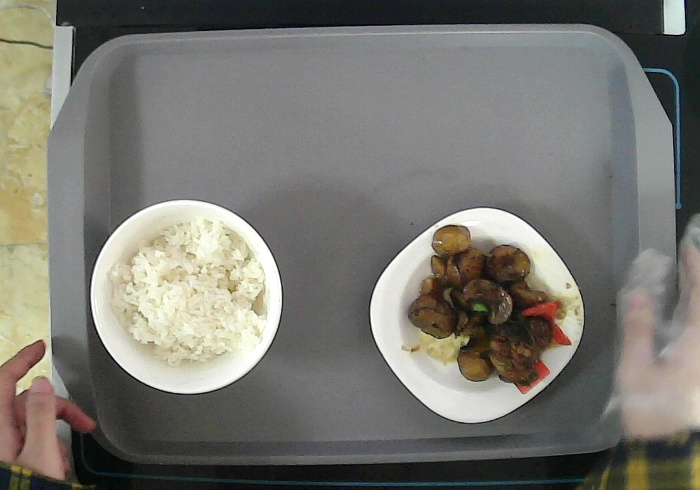SHKJ-Bai_Se_Si_Fang_Cai_Die: (365, 200, 589, 428)
SHKJ-Fan_Wan: (87, 198, 286, 398)
